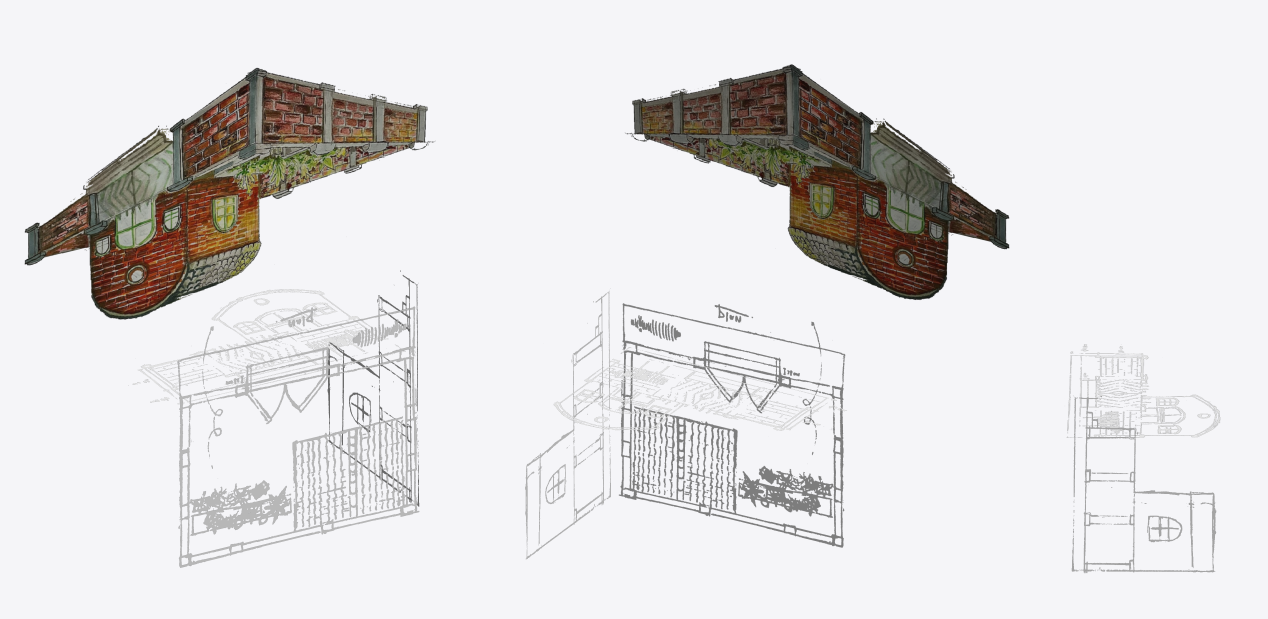
The model's file is asset.glb.
The picture shows the model from 3 angles, left to right: view 1: azimuth 30°, elevation 25°; view 2: azimuth 150°, elevation 25°; view 3: azimuth 270°, elevation 25°; orthographic projection. The views are drawn at different scales.
Parts seen in each view (by area): view 1: IMG_8968, image2, image0, image1; view 2: IMG_8968, image2, image0, image1; view 3: image0, image1.
Boxes of the visible parts, <box> form: IMG_8968: <box>24,68,434,319</box>; image2: <box>177,306,419,567</box>; image0: <box>132,289,405,404</box>; image1: <box>327,270,419,506</box>; IMG_8968: <box>625,64,1009,299</box>; image2: <box>619,303,845,547</box>; image0: <box>553,347,846,430</box>; image1: <box>525,291,610,559</box>; image0: <box>1066,344,1220,437</box>; image1: <box>1071,396,1216,572</box>.
Bounding box in the file's own units: 173 × 196 × 85.35.
4 materials, 4 textured.
